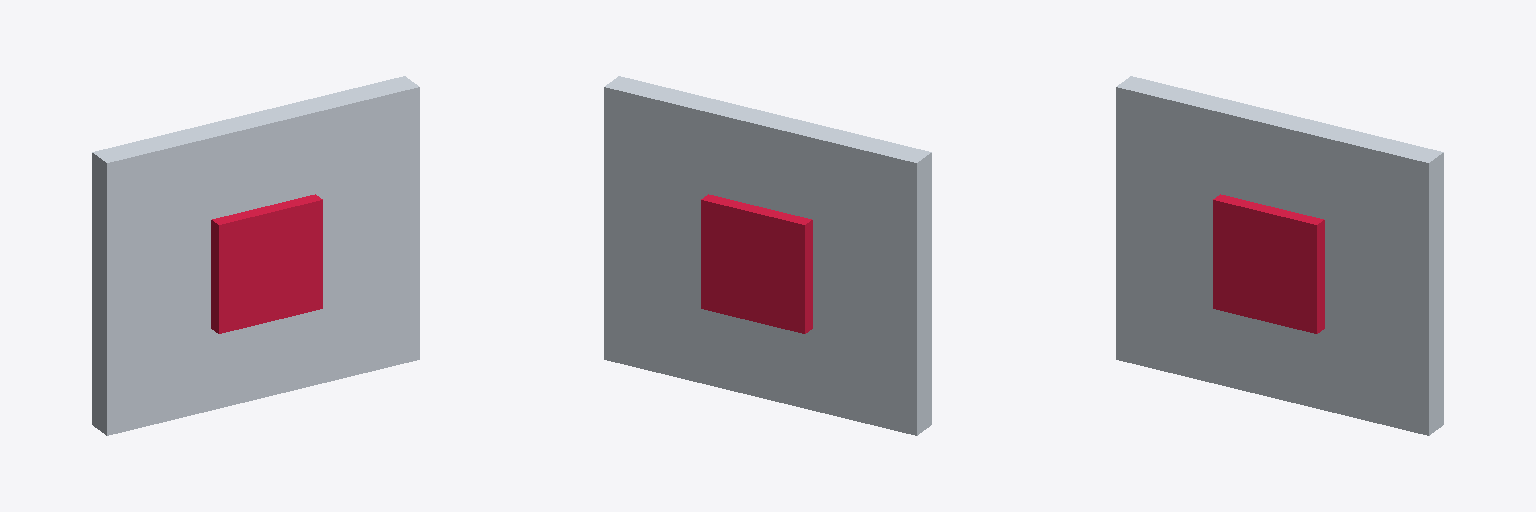
The picture shows the model from 3 angles: view 1: azimuth 30°, elevation 25°; view 2: azimuth 150°, elevation 25°; view 3: azimuth 330°, elevation 25°; orthographic projection.
Size of the model in its own units: 12 by 10 by 2.
Materials: 1 (1 with a texture image).